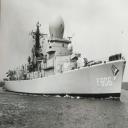Fragata: (5, 10, 127, 98)
